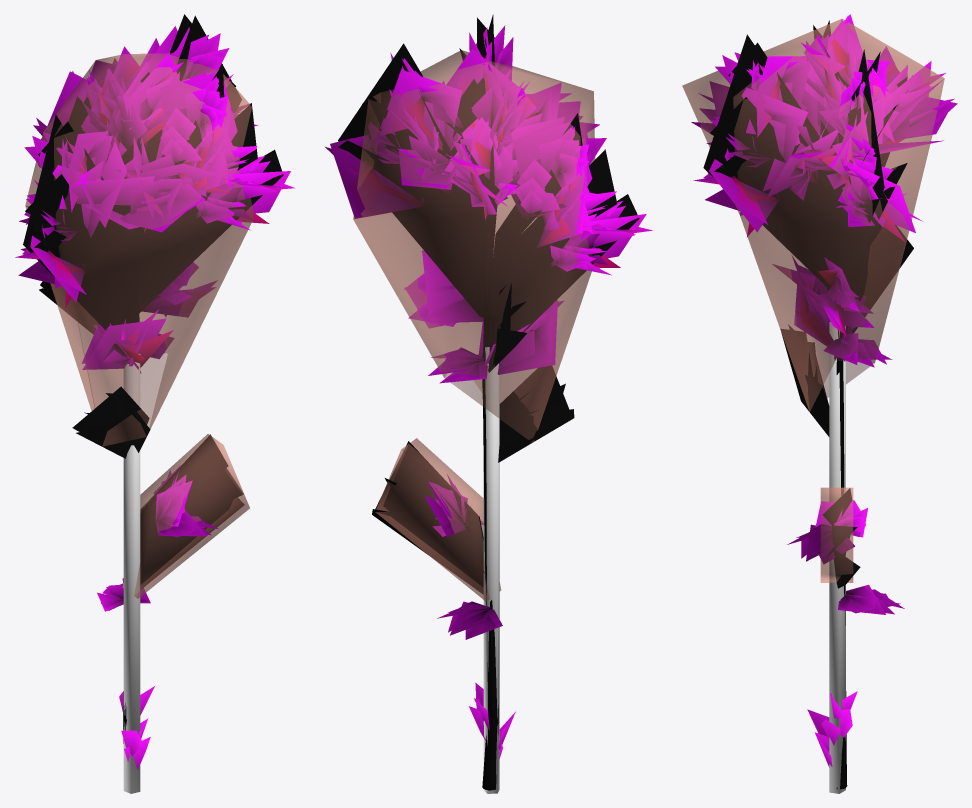
File: tree_aspen_forest_a.dae
The picture shows the model from 3 angles, left to right: view 1: azimuth 30°, elevation 25°; view 2: azimuth 150°, elevation 25°; view 3: azimuth 270°, elevation 25°; orthographic projection. The views are drawn at different scales.
Visible parts, largest first — view 1: Colmesh_forest01-1, Birch_forest_01_a400, Birch_forest_01_a800; view 2: Colmesh_forest01-1, Birch_forest_01_a400, Birch_forest_01_a800; view 3: Colmesh_forest01-1, Birch_forest_01_a800, Birch_forest_01_a400.
Part boxes in pixels (x1,y1,x2,y2): Colmesh_forest01-1: (25,53,253,793); Birch_forest_01_a400: (18,15,290,769); Birch_forest_01_a800: (15,14,294,764); Colmesh_forest01-1: (353,50,595,793); Birch_forest_01_a400: (330,14,646,790); Birch_forest_01_a800: (325,17,652,789); Colmesh_forest01-1: (682,19,944,793); Birch_forest_01_a800: (693,19,945,789); Birch_forest_01_a400: (691,14,957,788).
Size of the model in its own units: 6.13 by 4.91 by 15.34.
